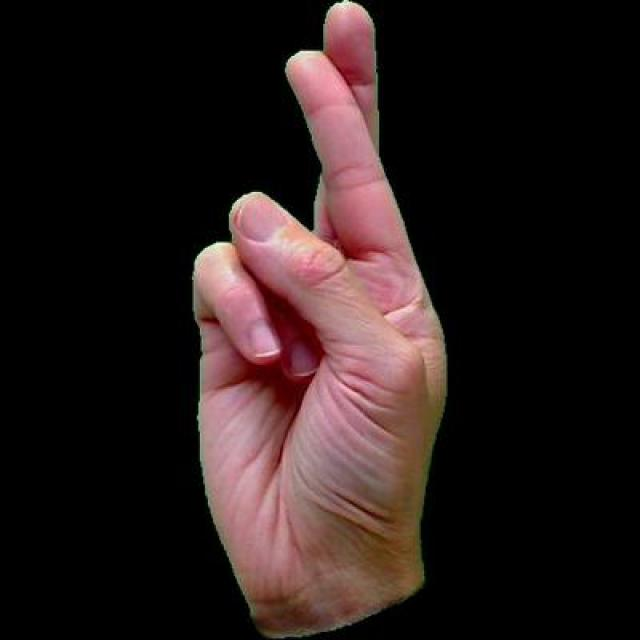r: (176, 0, 459, 637)
